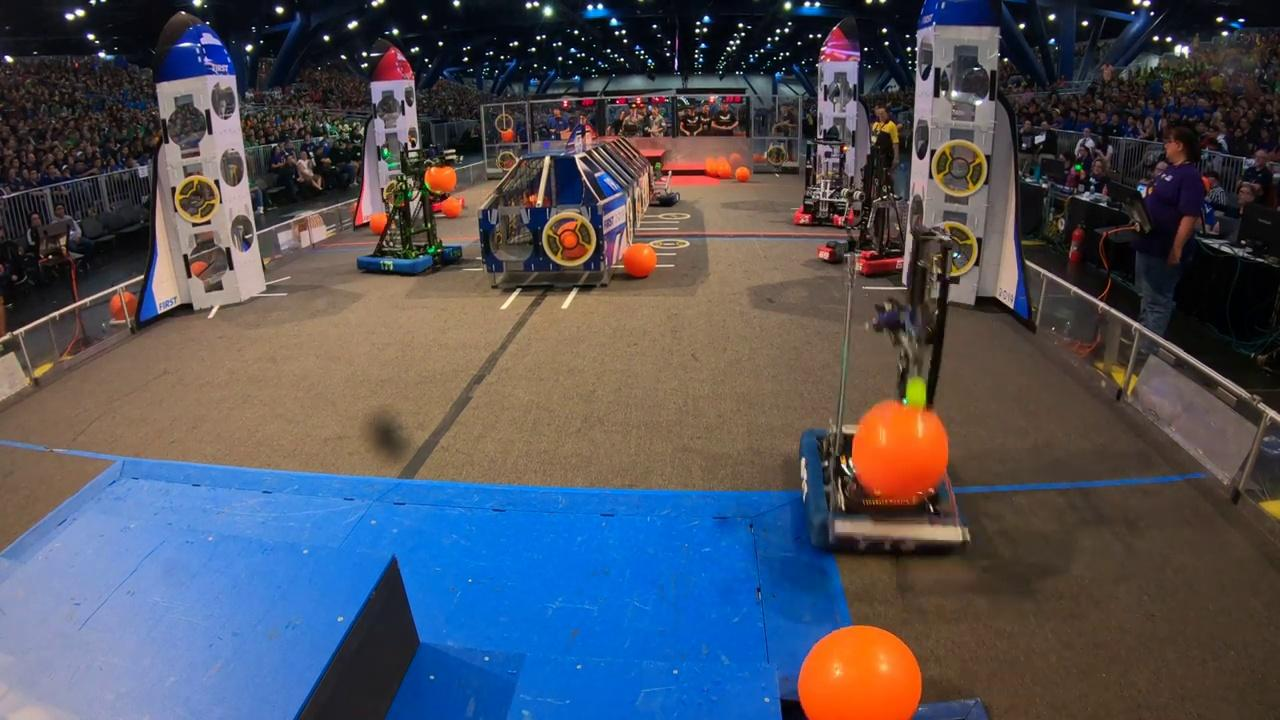robot: (793, 227, 974, 562), (353, 150, 467, 279), (813, 136, 907, 280), (791, 133, 859, 231)
